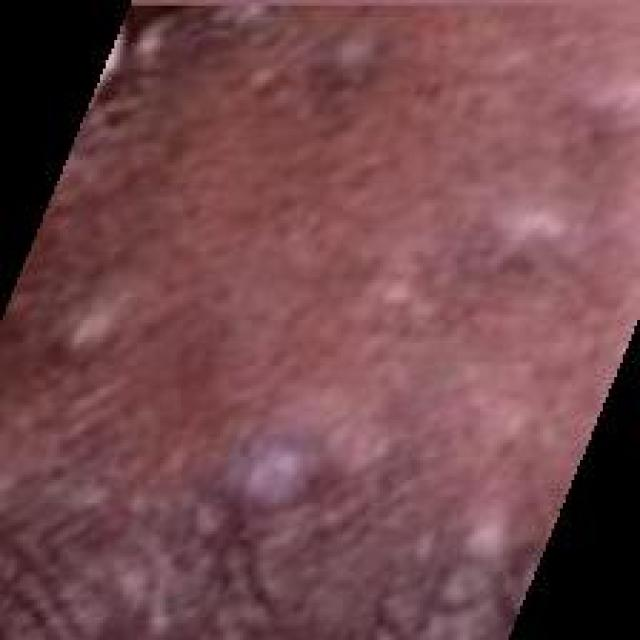monkeypox: (86, 0, 577, 640)
